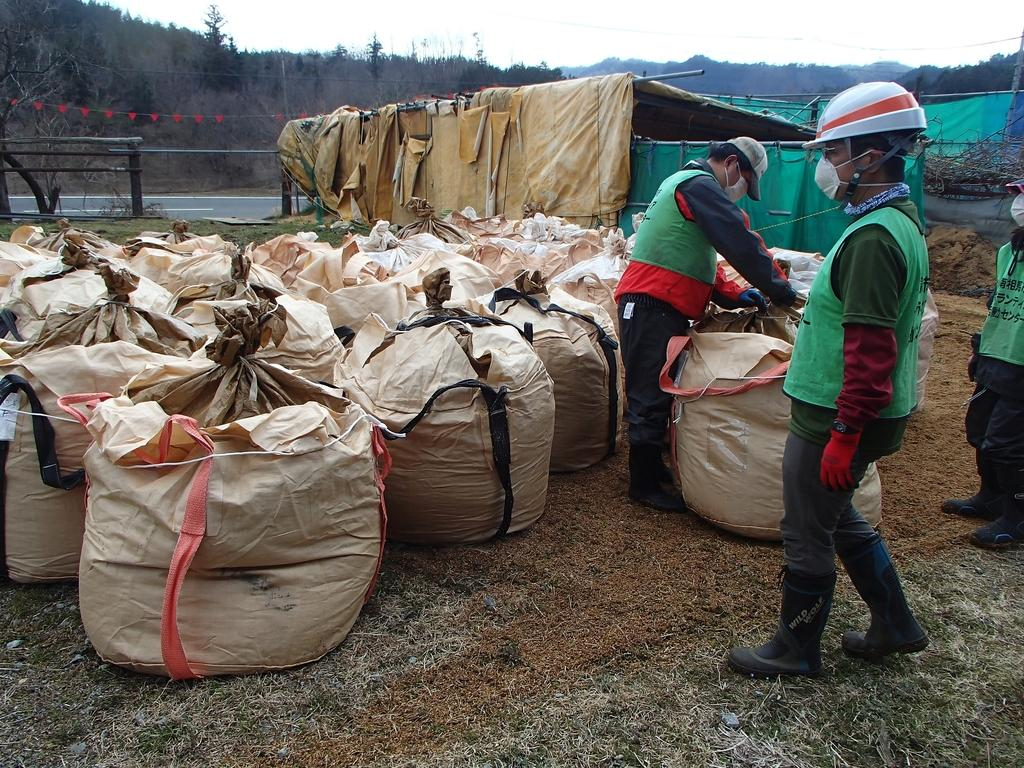helmet: (802, 81, 927, 200)
nohelmet: (705, 136, 768, 204)
